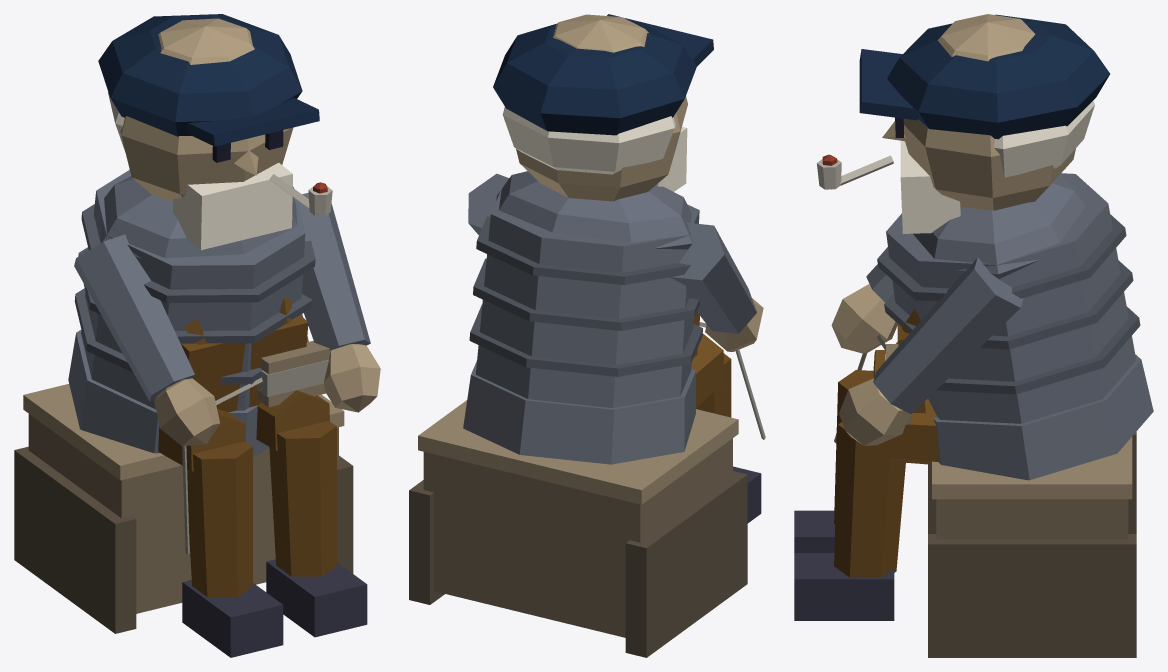
The model's file is brenner.glb.
The picture shows the model from 3 angles, left to right: view 1: azimuth 30°, elevation 25°; view 2: azimuth 150°, elevation 25°; view 3: azimuth 270°, elevation 25°; orthographic projection. The views are drawn at different scales.
Parts seen in each view (by area): view 1: Head, Torso, Stool, LegL, LegR, ArmR, ArmL; view 2: Stool, Torso, Head, ArmR, LegR, ArmL; view 3: Torso, Stool, Head, LegL, ArmL, ArmR, LegR.
Boxes of the visible parts, bbox=[...] form: Head: bbox=[98, 14, 332, 250]; Torso: bbox=[68, 170, 315, 457]; Stool: bbox=[14, 384, 353, 633]; LegL: bbox=[215, 340, 367, 637]; LegR: bbox=[158, 408, 283, 657]; ArmR: bbox=[74, 234, 220, 446]; ArmL: bbox=[294, 192, 380, 412]; Stool: bbox=[409, 400, 747, 657]; Torso: bbox=[463, 171, 702, 464]; Head: bbox=[493, 14, 713, 201]; ArmR: bbox=[670, 222, 763, 351]; LegR: bbox=[691, 333, 765, 523]; ArmL: bbox=[468, 173, 509, 234]; Torso: bbox=[877, 173, 1153, 480]; Stool: bbox=[928, 432, 1136, 657]; Head: bbox=[816, 14, 1109, 233]; LegL: bbox=[794, 335, 939, 620]; ArmL: bbox=[839, 257, 1023, 445]; ArmR: bbox=[831, 264, 897, 353]; LegR: bbox=[794, 350, 885, 552].
Size of the model in its own units: 0.7057 by 1.48 by 0.8352.
